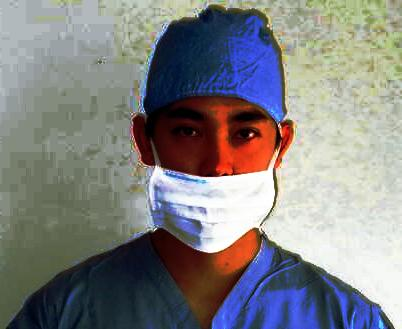mask_weared_incorrect: (136, 9, 295, 252)
